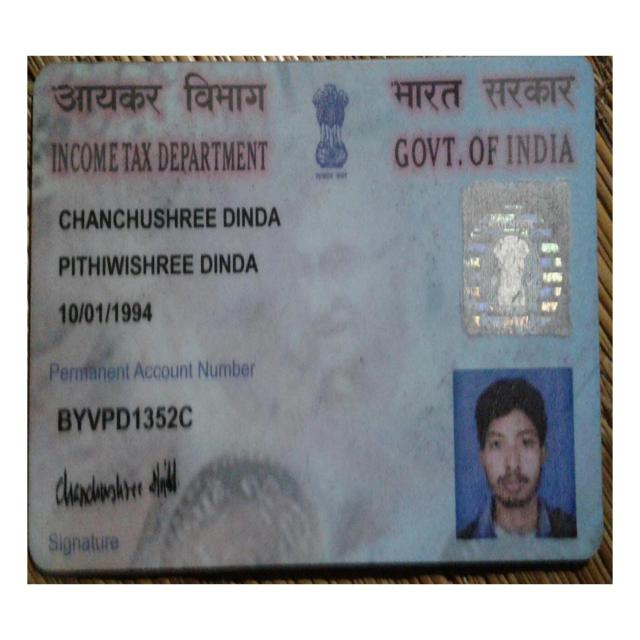pan_card: (36, 58, 598, 562)
